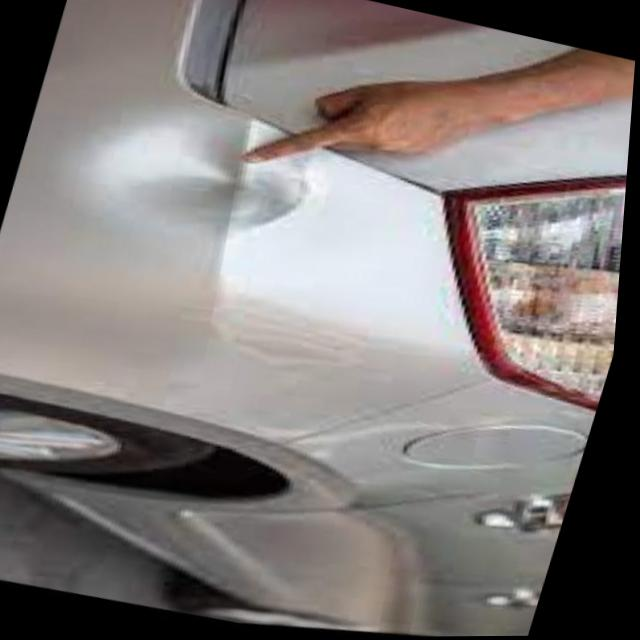Dent: (61, 67, 347, 280)
